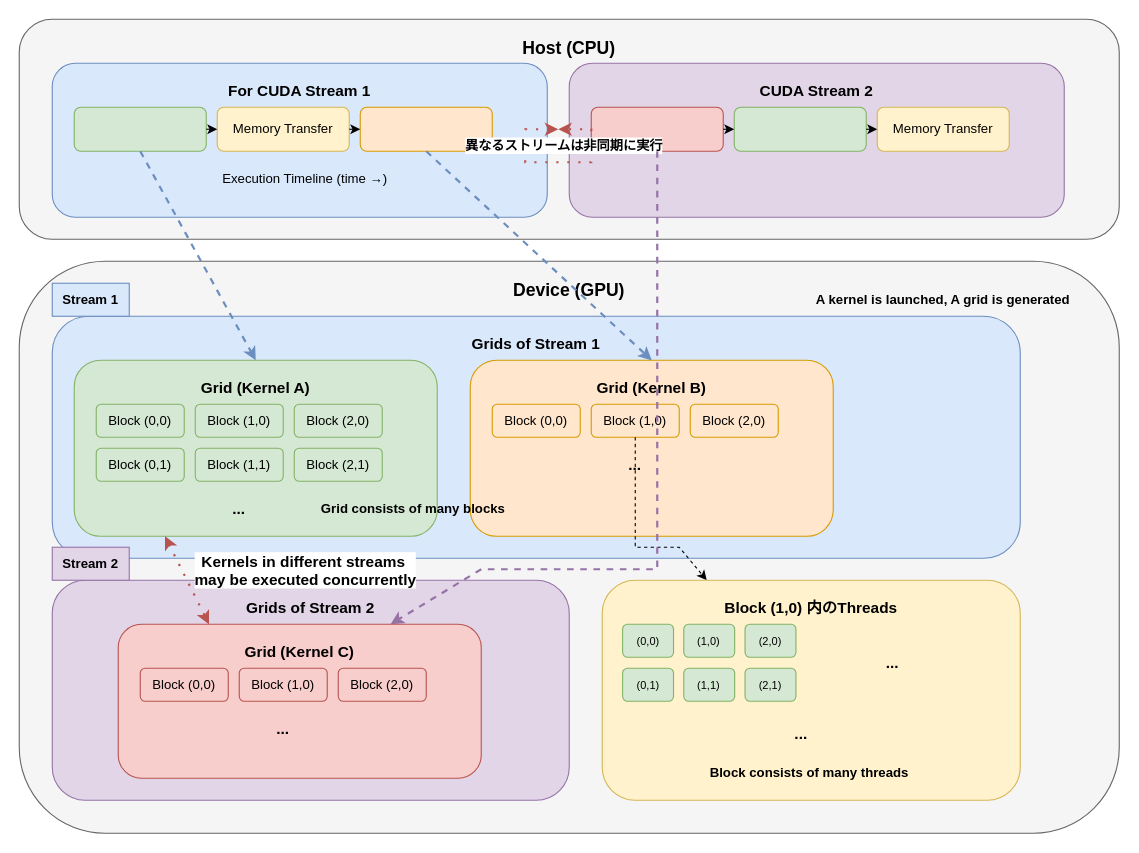
This 1139x853 diagram has some shape labels left out. Here are the shapes that lost their labels. From the top down, the centre of each, then its label:
At point 139,128: "Kernel Launch A".
At point 425,128: "Kernel Launch B".
At point 656,128: "Kernel Launch C".
At point 799,128: "Kernel Launch D".
